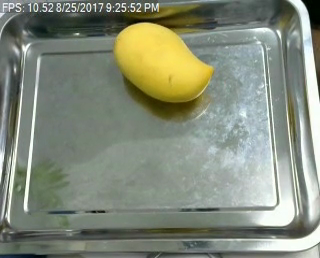Mango: (109, 20, 216, 108)
